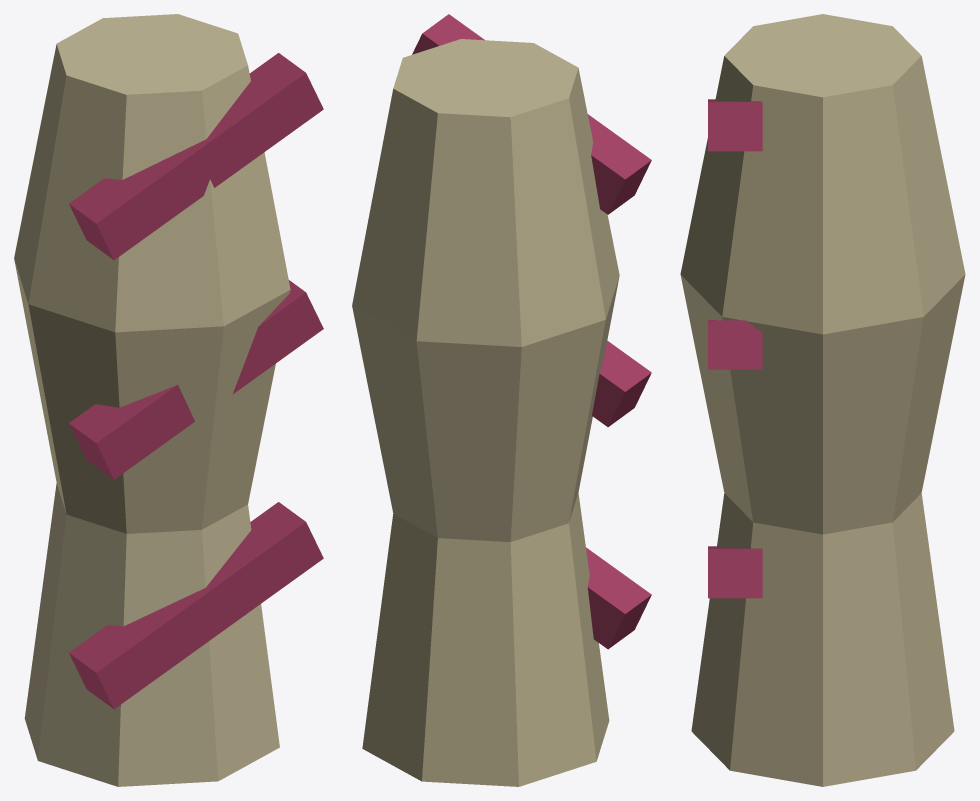
Rendered from bone_talisman_handle.obj.
3 renders of one model, left to right at view 1: azimuth 30°, elevation 25°; view 2: azimuth 150°, elevation 25°; view 3: azimuth 270°, elevation 25°, orthographic. The views are drawn at different scales.
Parts seen in each view (by area): view 1: bone_handle, talisman_wrap_-0.18, talisman_wrap_0.27, talisman_wrap_0.05, talisman_wrap_-0.18_edge, talisman_wrap_0.27_edge, talisman_wrap_0.05_edge; view 2: bone_handle, talisman_wrap_0.27_edge, talisman_wrap_-0.18_edge, talisman_wrap_0.05_edge, talisman_wrap_0.27, talisman_wrap_-0.18, talisman_wrap_0.05; view 3: bone_handle, talisman_wrap_0.27_edge, talisman_wrap_-0.18_edge, talisman_wrap_0.05_edge.
Boxes of the visible parts, x1=… form: bone_handle: x1=14, y1=14, x2=290, y2=786; talisman_wrap_-0.18: x1=96, y1=522, x2=323, y2=709; talisman_wrap_0.27: x1=96, y1=73, x2=323, y2=259; talisman_wrap_0.05: x1=96, y1=292, x2=323, y2=479; talisman_wrap_-0.18_edge: x1=69, y1=502, x2=305, y2=708; talisman_wrap_0.27_edge: x1=69, y1=53, x2=305, y2=259; talisman_wrap_0.05_edge: x1=69, y1=280, x2=305, y2=479; bone_handle: x1=352, y1=39, x2=619, y2=786; talisman_wrap_0.27_edge: x1=422, y1=14, x2=651, y2=214; talisman_wrap_-0.18_edge: x1=586, y1=547, x2=651, y2=649; talisman_wrap_0.05_edge: x1=599, y1=341, x2=651, y2=426; talisman_wrap_0.27: x1=412, y1=33, x2=624, y2=214; talisman_wrap_-0.18: x1=587, y1=587, x2=624, y2=648; talisman_wrap_0.05: x1=592, y1=374, x2=624, y2=426; bone_handle: x1=680, y1=14, x2=965, y2=786; talisman_wrap_0.27_edge: x1=708, y1=99, x2=762, y2=151; talisman_wrap_-0.18_edge: x1=708, y1=546, x2=762, y2=598; talisman_wrap_0.05_edge: x1=708, y1=320, x2=762, y2=369.
Bounding box in the file's own units: 0.26 × 0.6805 × 0.26.
